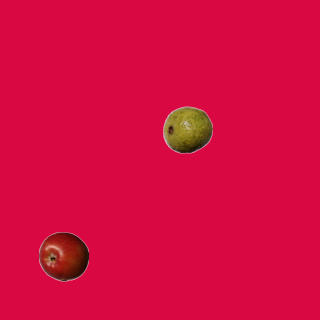Apple Braeburn: (38, 231, 88, 281)
Guava: (162, 104, 212, 154)
